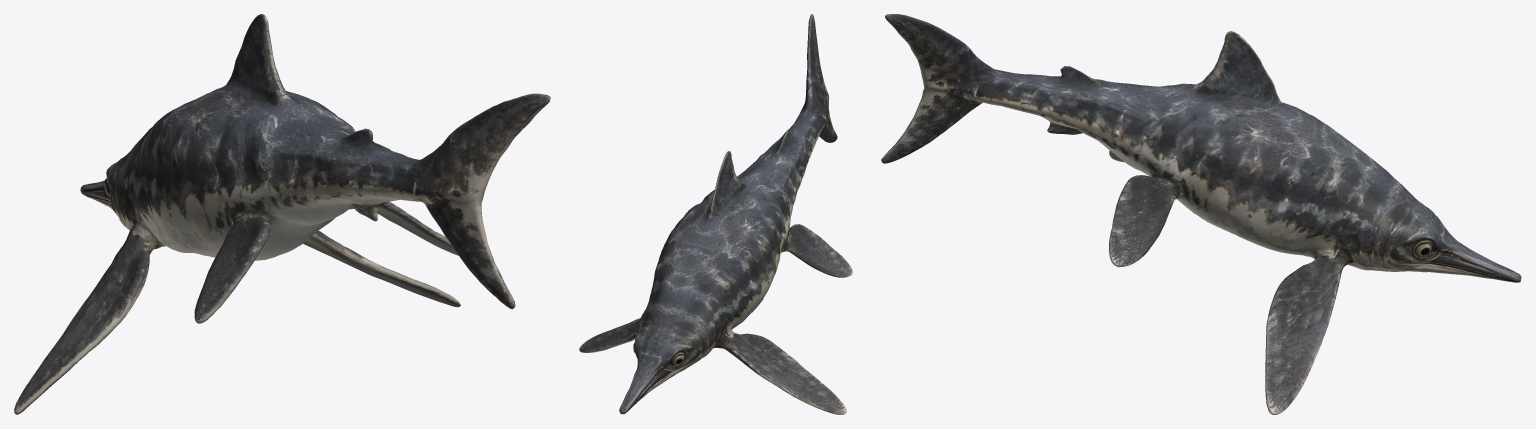
File: mixosaurus.raw.glb
3 views of the same model, side by side, from view 1: azimuth 30°, elevation 25°; view 2: azimuth 150°, elevation 25°; view 3: azimuth 270°, elevation 25° (orthographic). The views are drawn at different scales.
Visible parts, largest first — view 1: tripo_node_6af8c703-b983-4b3e-b0f1-a0303a535207; view 2: tripo_node_6af8c703-b983-4b3e-b0f1-a0303a535207; view 3: tripo_node_6af8c703-b983-4b3e-b0f1-a0303a535207.
Boxes of the visible parts, box(x1,y1,x2,y2) form: tripo_node_6af8c703-b983-4b3e-b0f1-a0303a535207: box(14, 14, 550, 414); tripo_node_6af8c703-b983-4b3e-b0f1-a0303a535207: box(579, 14, 852, 414); tripo_node_6af8c703-b983-4b3e-b0f1-a0303a535207: box(881, 14, 1521, 414).
Size of the model in its own units: 0.6502 by 0.5901 by 1.
1 material, 1 textured.
